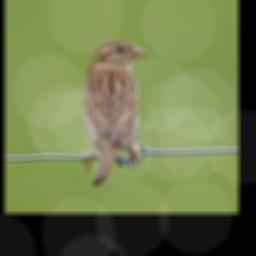Sparrow: (84, 39, 148, 185)
